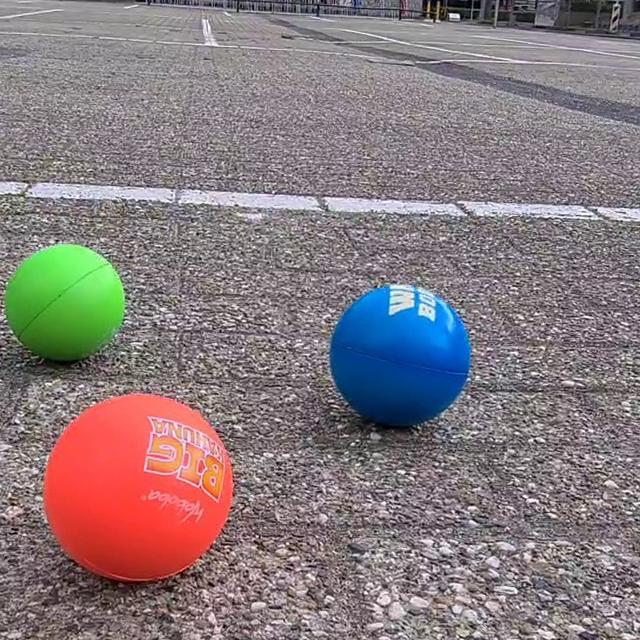ball: (330, 280, 475, 429), (8, 240, 128, 361)
